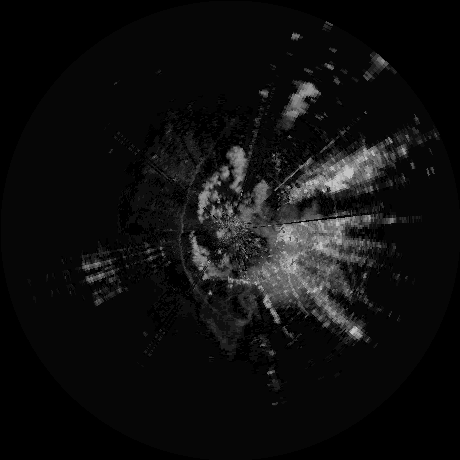frontgust: (177, 186, 191, 282), (193, 284, 216, 314), (187, 152, 207, 184)
